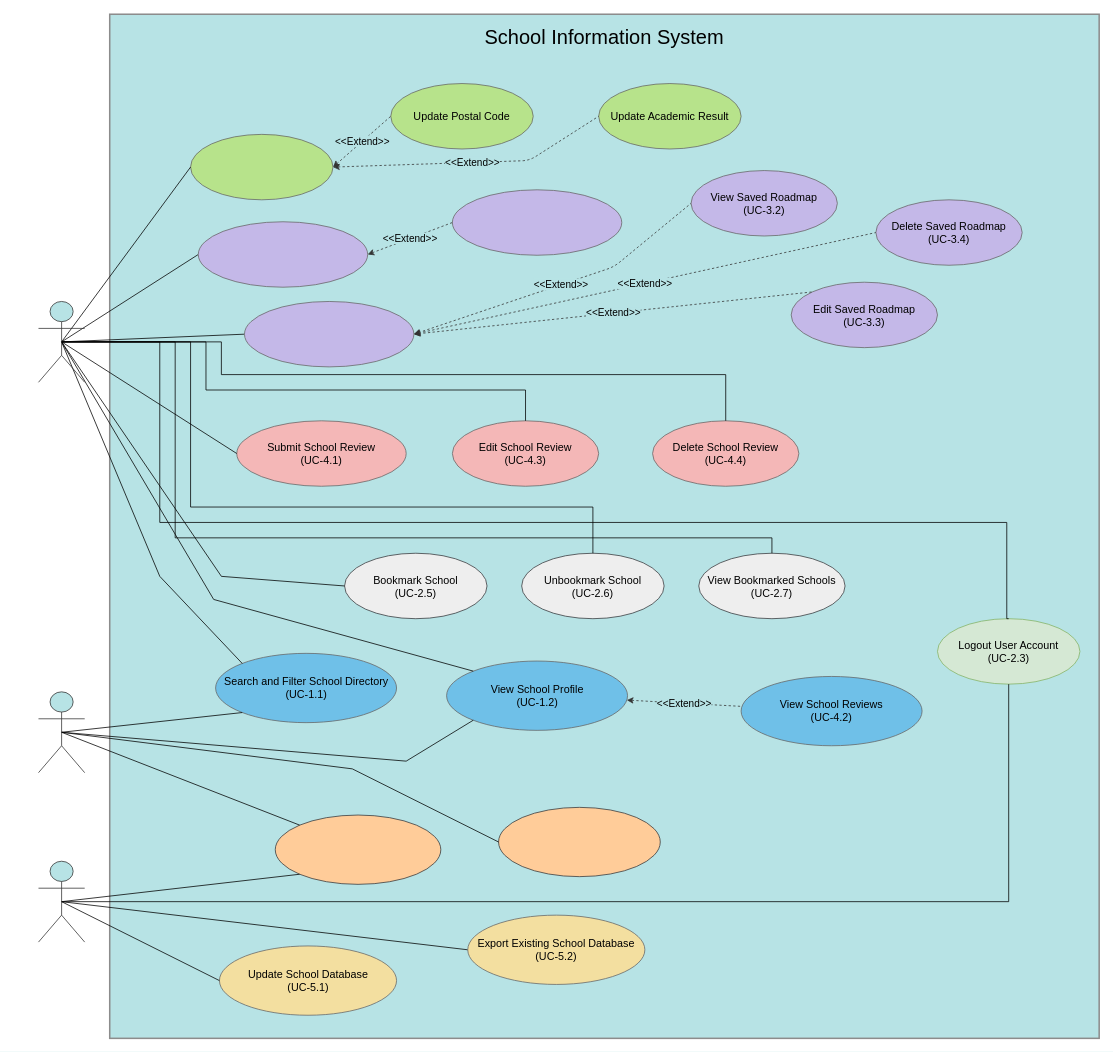
The diagram is 1113 pixels wide and 1052 high, and some of its shapes have lost their labels. Here are the shapes that lost their labels. From the top down, the centre of each, then its label:
(x=261, y=167): View User Profile (UC-2.4)
(x=537, y=222): Save Roadmap
(x=283, y=254): Generate Education Roadmap (UC-3.1)
(x=61, y=341): Authenticated Users
(x=329, y=334): Manage Saved Roadmap
(x=61, y=732): Guest Users
(x=358, y=849): Login User Account (UC-2.2)
(x=579, y=842): Register User Account (UC-2.1)
(x=61, y=901): Administrator
